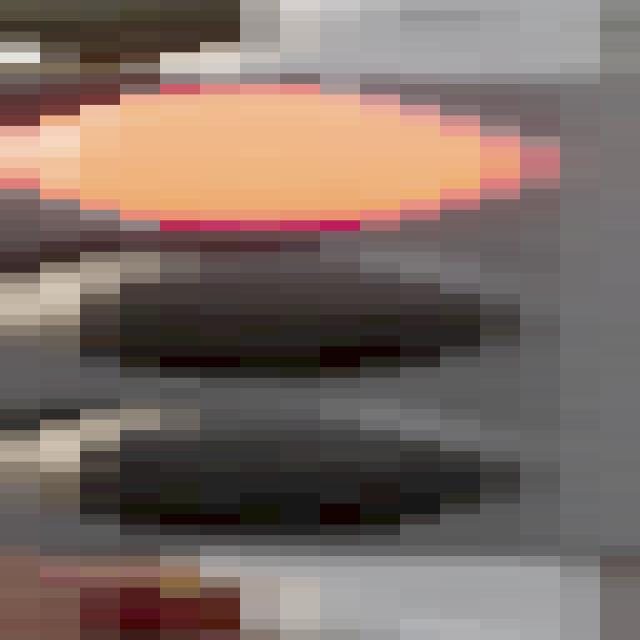red_light: (0, 69, 608, 561)
